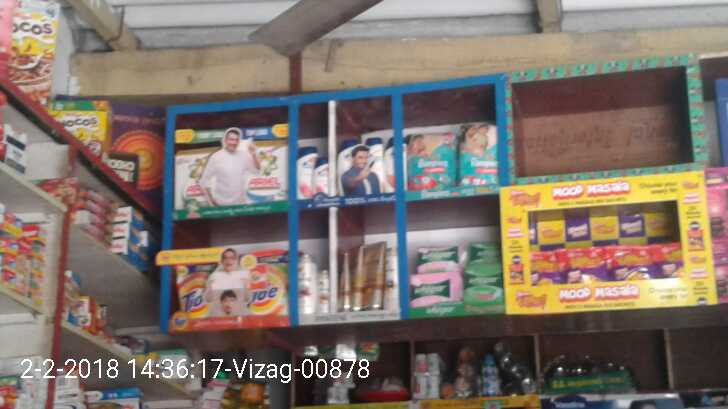beauty: (297, 255, 315, 316), (384, 245, 399, 308), (315, 265, 332, 315), (299, 144, 314, 199), (314, 159, 331, 201)
home: (241, 250, 288, 320), (170, 261, 216, 326), (170, 156, 212, 209), (250, 143, 286, 203)
pharmacy: (406, 133, 456, 192), (458, 124, 497, 185), (463, 263, 503, 302), (410, 276, 461, 306), (416, 245, 464, 275)
